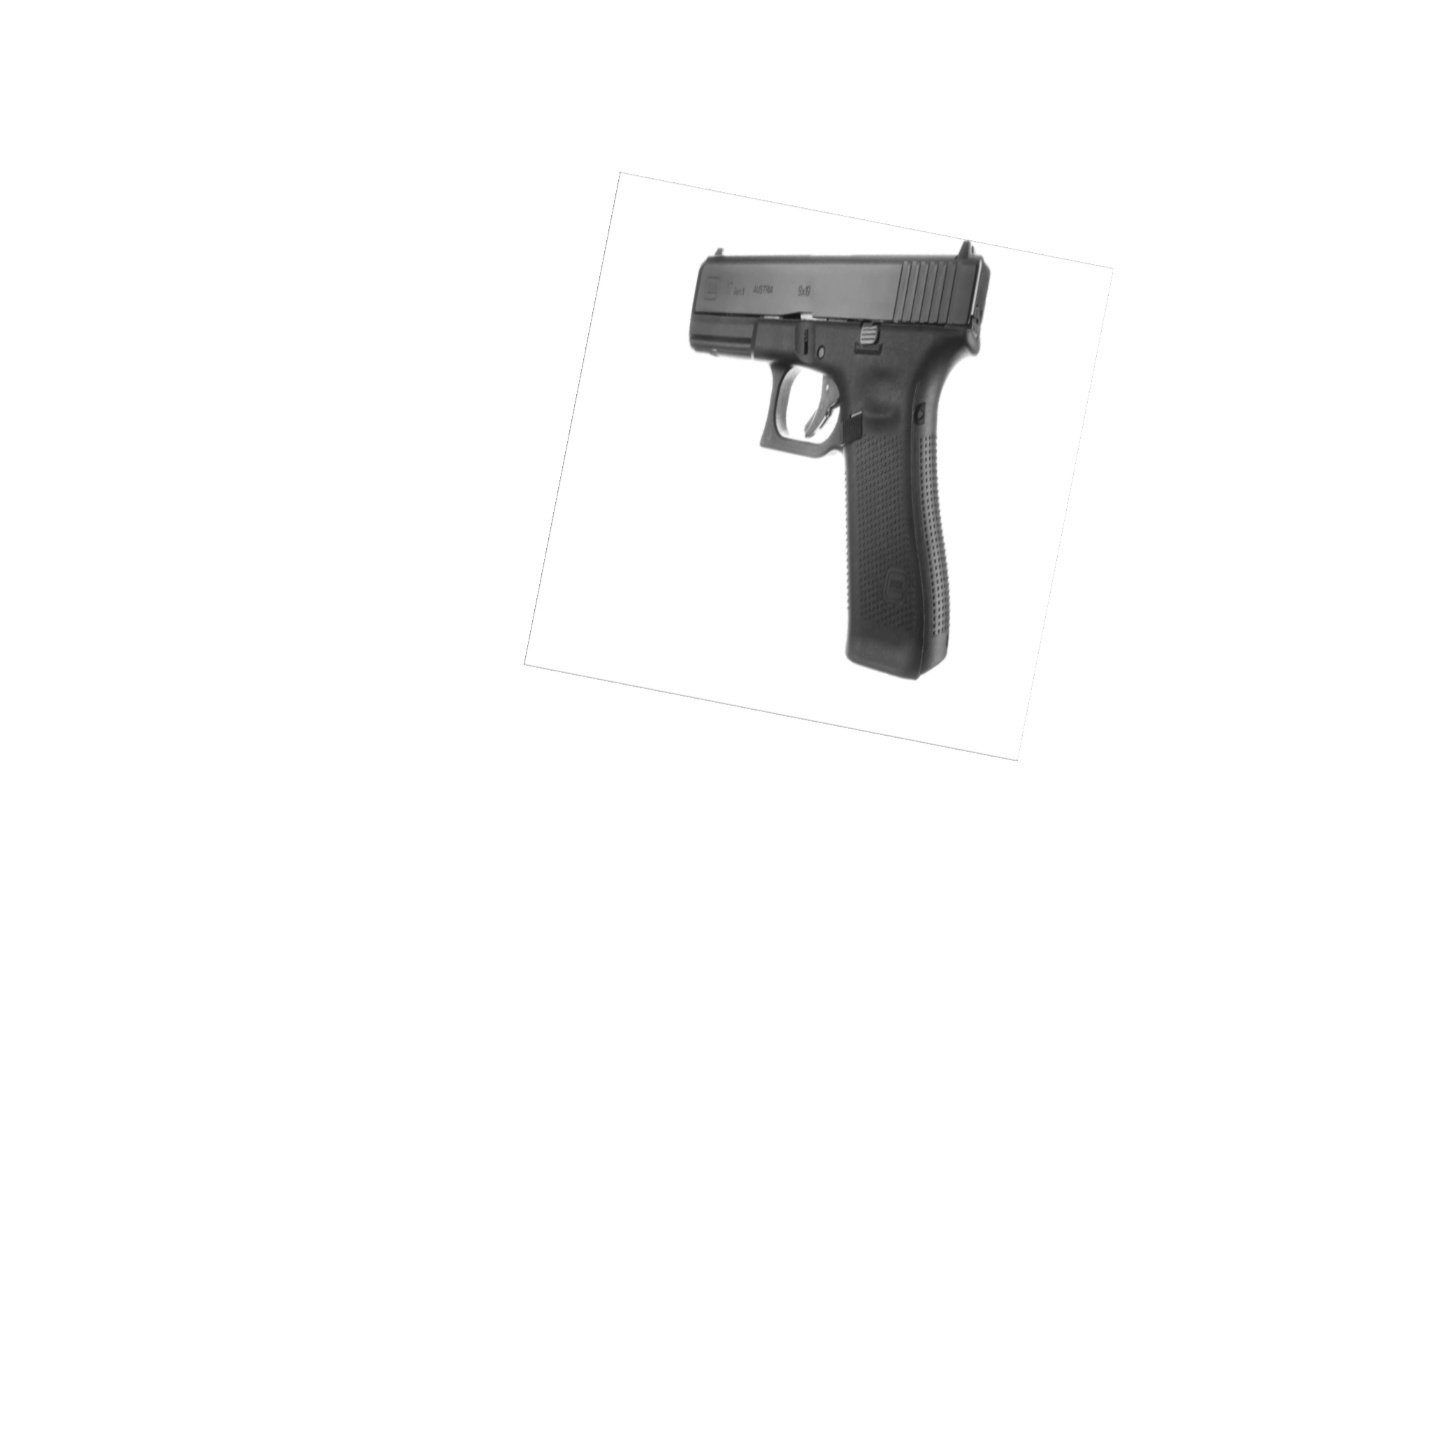gun: (687, 240, 992, 679)
